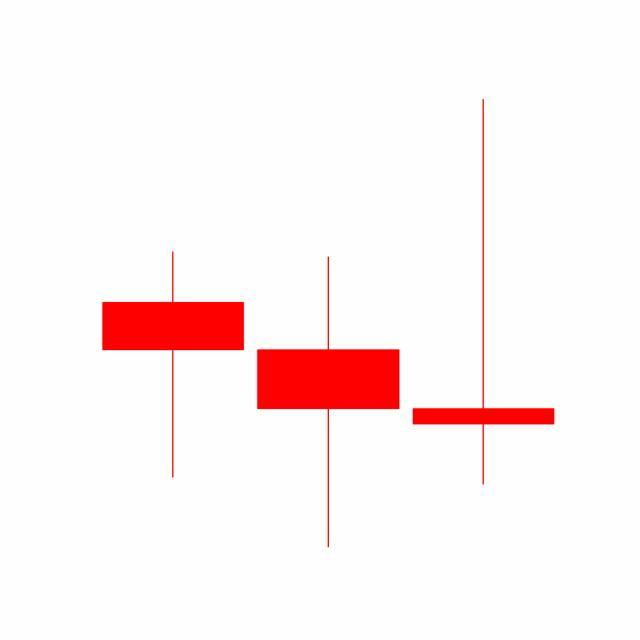Spinning Top: (406, 96, 562, 490)
